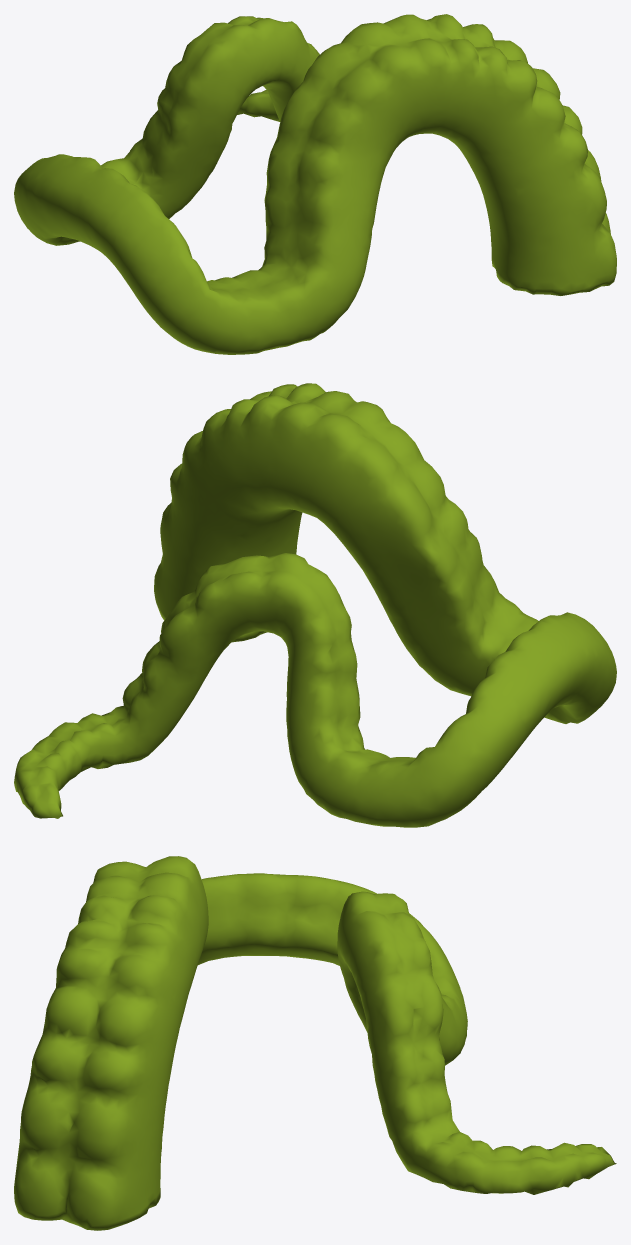
File: model_decimated.obj
3 views of the same model, one above another, from view 1: azimuth 30°, elevation 25°; view 2: azimuth 150°, elevation 25°; view 3: azimuth 270°, elevation 25° (orthographic). The views are drawn at different scales.
Size of the model in its own units: 75.5 by 38.98 by 79.23.
